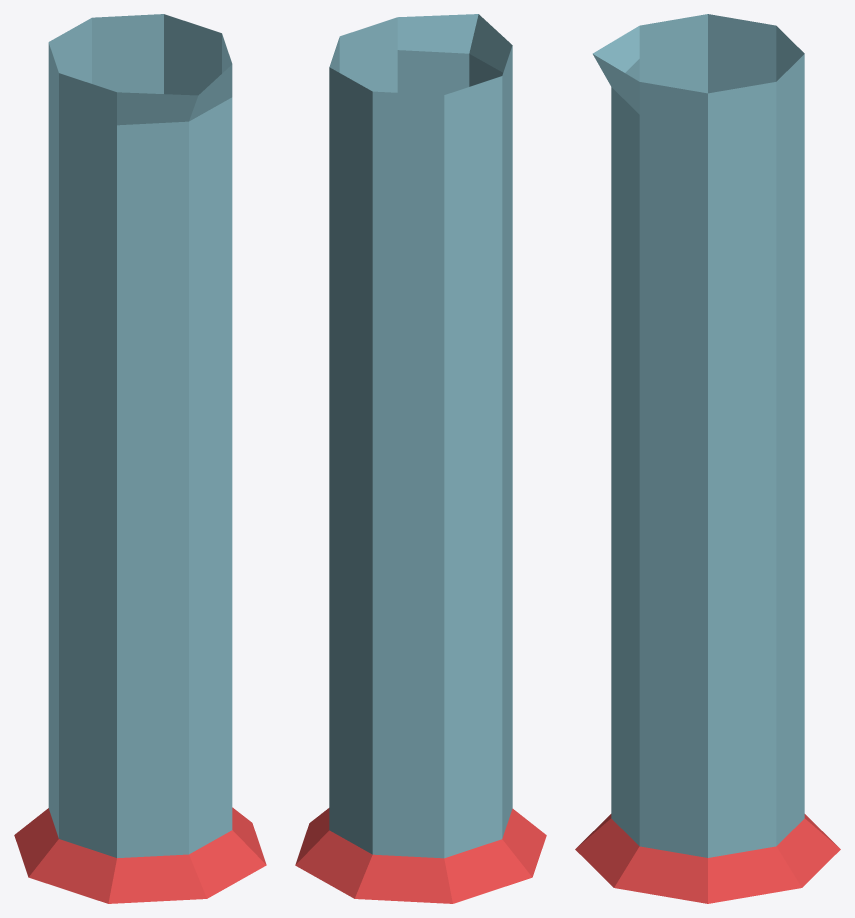
The model's file is Elermeyer.fbx.
3 renders of one model, left to right at view 1: azimuth 30°, elevation 25°; view 2: azimuth 150°, elevation 25°; view 3: azimuth 270°, elevation 25°, orthographic.
Parts seen in each view (by area): view 1: Elermeyer.001; view 2: Elermeyer.001; view 3: Elermeyer.001.
Boxes of the visible parts, left/top/right/bottom form: Elermeyer.001: left=14, top=14, right=266, bottom=903; Elermeyer.001: left=295, top=14, right=546, bottom=903; Elermeyer.001: left=575, top=14, right=840, bottom=903.
Size of the model in its own units: 101 by 343 by 104.
